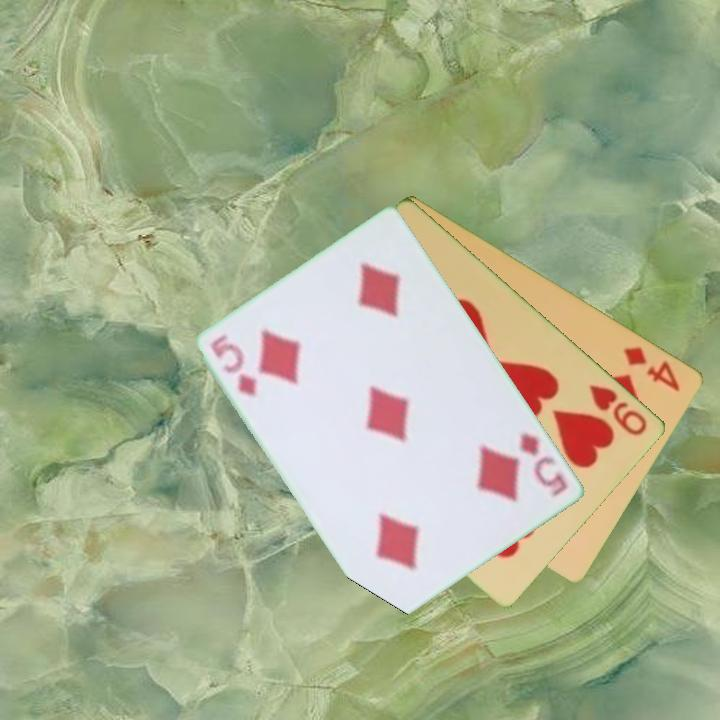4d: (620, 342, 683, 395)
5d: (516, 429, 571, 501), (207, 331, 261, 401)
9h: (586, 381, 651, 439)
